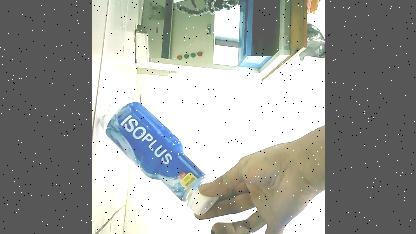Plastic Bottle: (96, 86, 224, 218)
